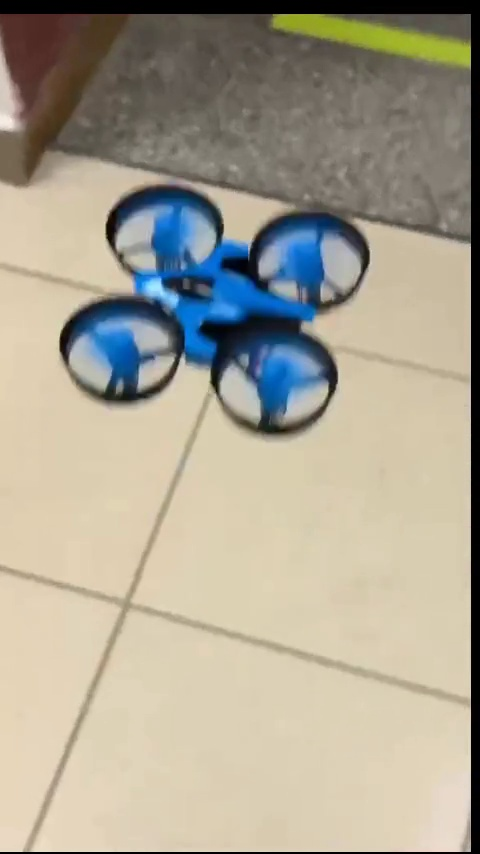drone: (65, 189, 373, 433)
